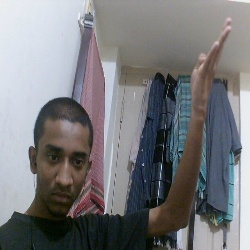hand: (192, 14, 233, 125)
